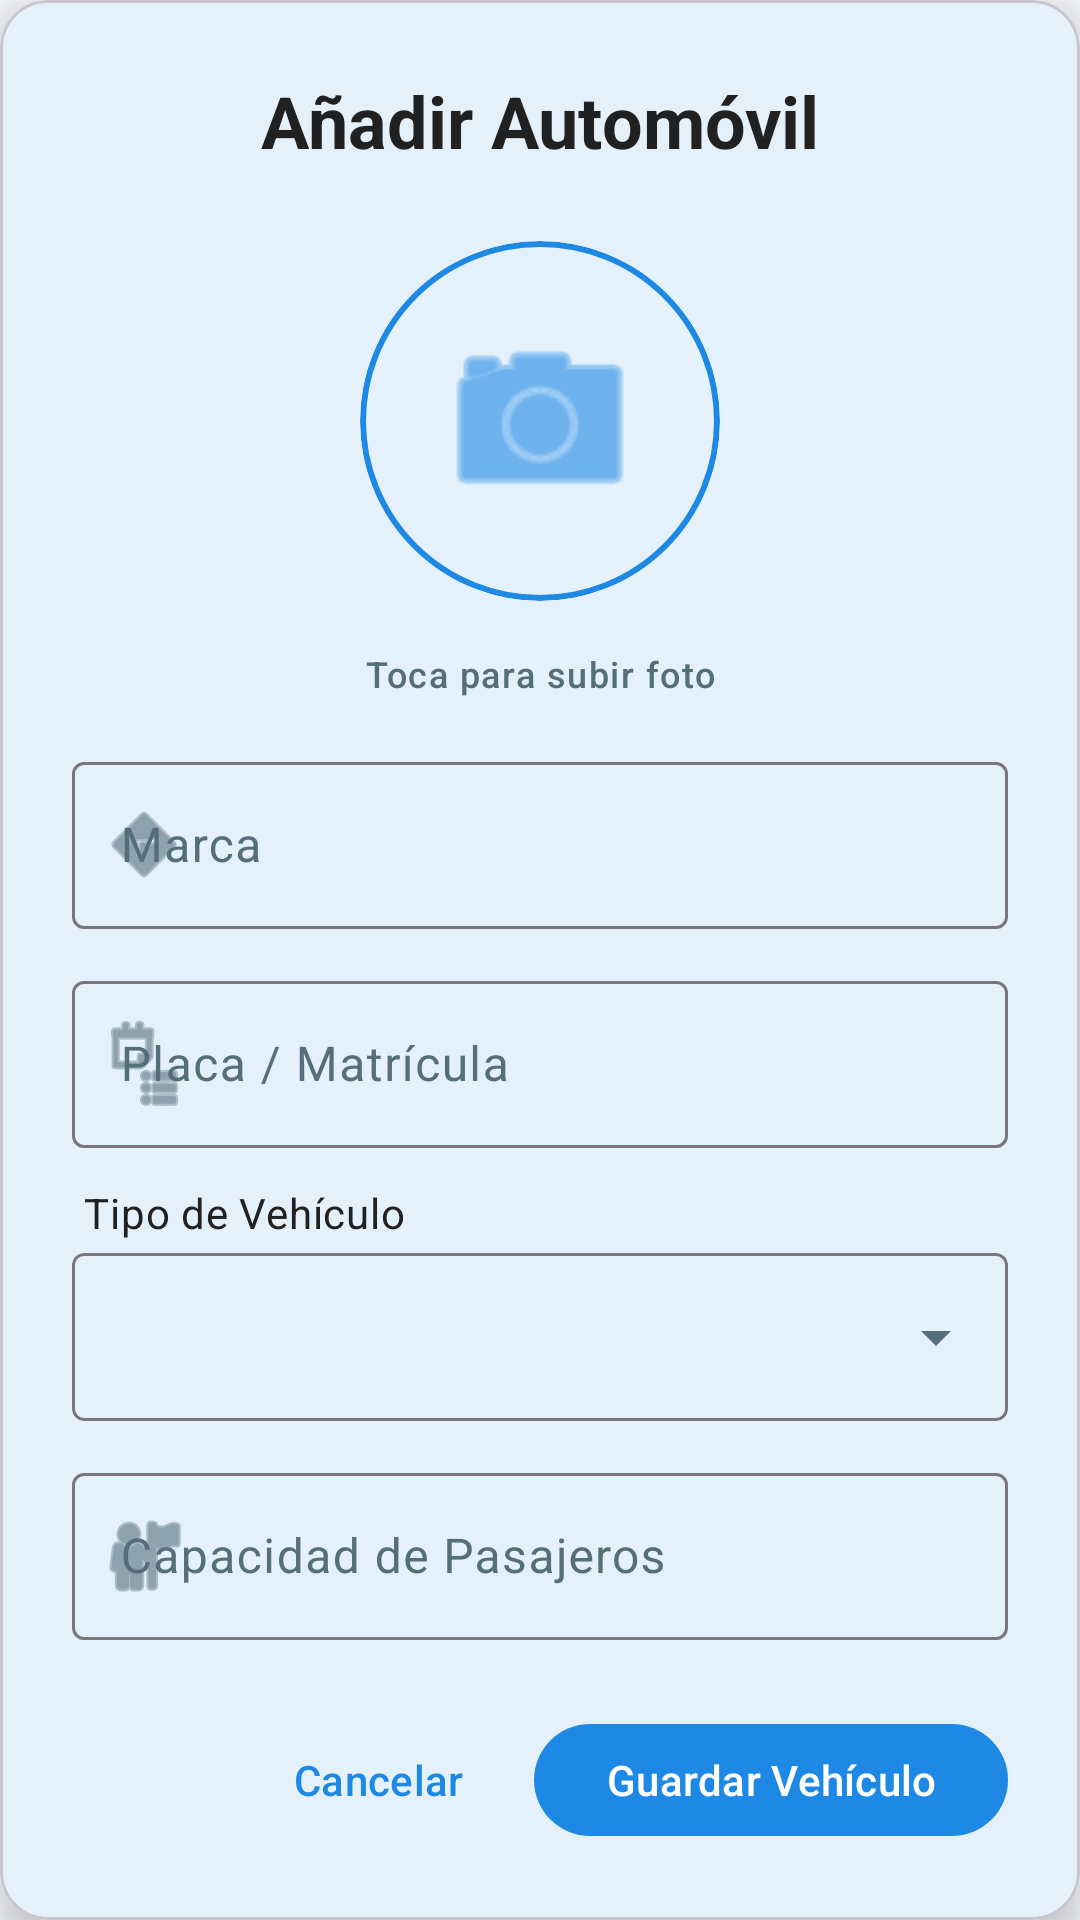

Icons on this 1080 × 1920 Android screen, each with the point to tap as (x=x, y=y):
camera: (x=540, y=421)
